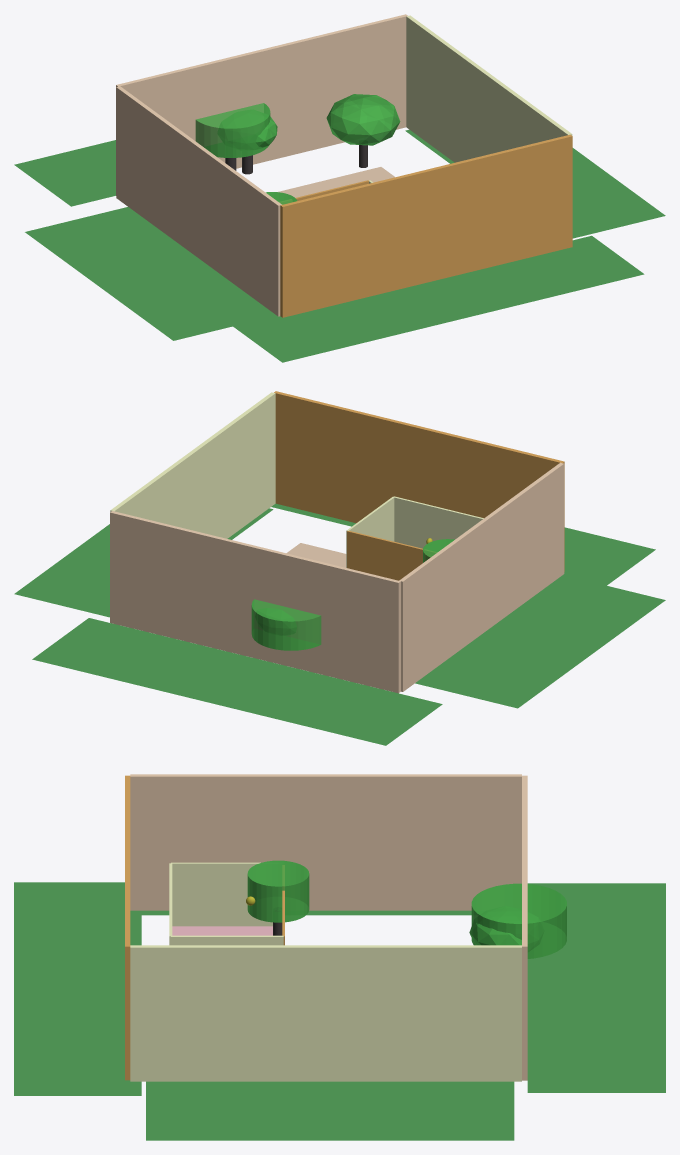
The model's file is ultra_varied_ec776159-35a8-4503-bf2f-995f23a123fb.obj.
3 views of the same model, one above another, from view 1: azimuth 30°, elevation 25°; view 2: azimuth 150°, elevation 25°; view 3: azimuth 270°, elevation 25° (orthographic). The views are drawn at different scales.
Visible parts, largest first — view 1: ExteriorWall_South, ExteriorWall_North, ExteriorWall_West, Grass_Front, Grass_Left, ExteriorWall_East, Grass_Right, Grass_Back, Crown_2, Crown_3, Crown_1, Foundation; view 2: ExteriorWall_North, ExteriorWall_South, Grass_Back, ExteriorWall_West, Grass_Left, ExteriorWall_East, Grass_Right, Grass_Front, Crown_2, SouthWall_Test_Room, NorthWall_Test_Room, EastWall_Test_Room (+2 smaller); view 3: ExteriorWall_East, ExteriorWall_West, Grass_Back, Grass_Front, Grass_Right, Crown_2, WestWall_Test_Room, Crown_0, Crown_1, ExteriorWall_North, ExteriorWall_South, EastWall_Test_Room (+2 smaller).
Boxes of the visible parts, x1,y1,x2,y2 form: ExteriorWall_South: (280, 134, 572, 317); ExteriorWall_North: (116, 14, 407, 195); ExteriorWall_West: (116, 86, 281, 316); Grass_Front: (233, 235, 644, 362); Grass_Left: (25, 207, 276, 340); ExteriorWall_East: (406, 15, 572, 162); Grass_Right: (405, 129, 665, 238); Grass_Back: (14, 140, 115, 206); Crown_2: (195, 103, 270, 157); Crown_3: (326, 94, 400, 145); Crown_1: (218, 110, 277, 149); Foundation: (278, 167, 394, 197); ExteriorWall_North: (110, 511, 400, 693); ExteriorWall_South: (274, 391, 564, 571); Grass_Back: (32, 618, 442, 745); ExteriorWall_West: (399, 462, 564, 691); Grass_Left: (415, 575, 665, 708); ExteriorWall_East: (110, 392, 275, 538); Grass_Right: (14, 508, 273, 617); Grass_Front: (271, 503, 655, 585); Crown_2: (251, 599, 321, 650); SouthWall_Test_Room: (394, 496, 483, 548); NorthWall_Test_Room: (347, 530, 436, 580); EastWall_Test_Room: (346, 496, 394, 567); ExteriorWall_East: (130, 945, 521, 1081); ExteriorWall_West: (130, 774, 521, 910); Grass_Back: (527, 883, 665, 1092); Grass_Front: (14, 882, 141, 1095); Grass_Right: (146, 1081, 514, 1140); Crown_2: (471, 883, 566, 958); WestWall_Test_Room: (171, 862, 272, 926); Crown_0: (247, 860, 309, 922); Crown_1: (469, 906, 543, 951); ExteriorWall_North: (522, 775, 527, 1080); ExteriorWall_South: (125, 775, 130, 1080); EastWall_Test_Room: (171, 935, 283, 945).
Size of the model in its own units: 35.95 by 7.76 by 33.78.
